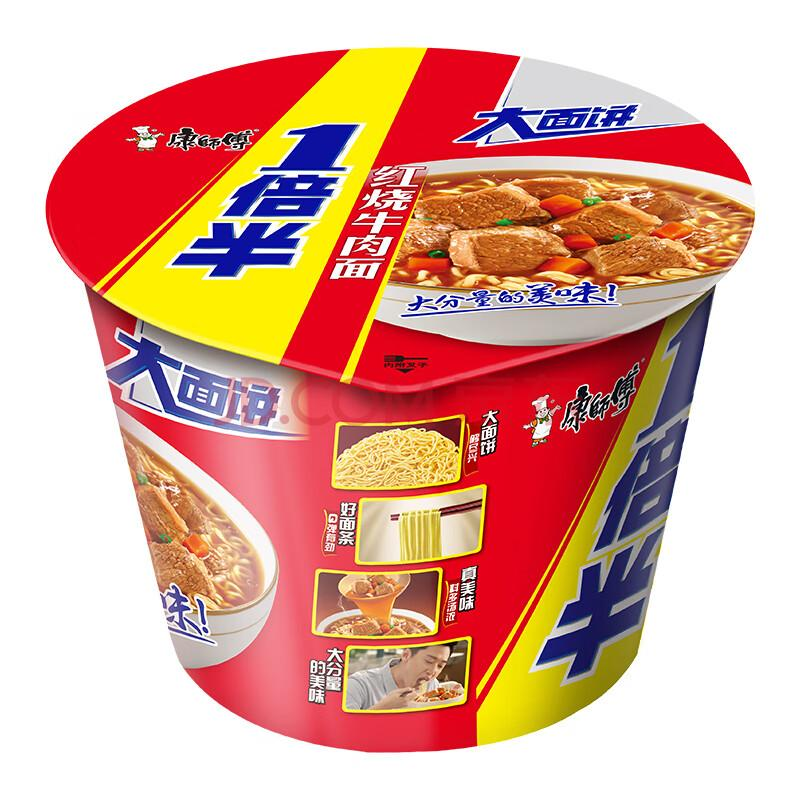instant_noodle: (41, 56, 768, 762)
